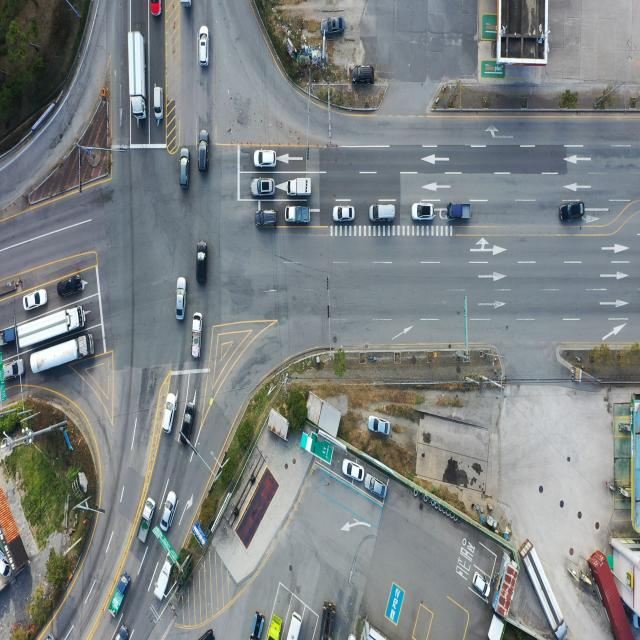car: (138, 496, 156, 542), (160, 491, 179, 534), (183, 403, 199, 446), (58, 274, 84, 298), (164, 392, 178, 435), (366, 476, 388, 502), (197, 130, 210, 173), (24, 288, 48, 310), (371, 203, 397, 223), (343, 459, 365, 482), (559, 203, 585, 222), (367, 416, 390, 437), (2, 359, 25, 380), (352, 66, 376, 86), (198, 244, 209, 287), (474, 572, 492, 598), (182, 146, 193, 187), (176, 277, 186, 321), (255, 209, 278, 228), (251, 178, 275, 196), (323, 17, 345, 36), (412, 204, 435, 222), (200, 28, 210, 68), (254, 149, 276, 167), (335, 206, 356, 223), (153, 86, 163, 120), (115, 625, 132, 640), (150, 0, 162, 17)
medium_truck: (523, 539, 569, 637), (28, 331, 96, 378), (15, 308, 84, 351), (128, 29, 149, 119), (321, 602, 338, 640)
small_bus: (286, 614, 301, 640)
small_truck: (154, 552, 176, 601), (109, 571, 130, 617), (190, 312, 202, 360), (287, 178, 313, 198), (284, 204, 310, 224), (447, 204, 471, 222), (0, 324, 18, 348), (251, 614, 264, 640), (268, 614, 281, 640)
